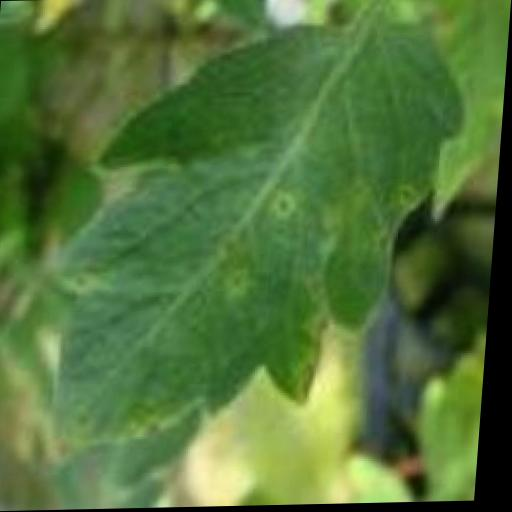Bacterial Spot: (46, 23, 475, 450)
